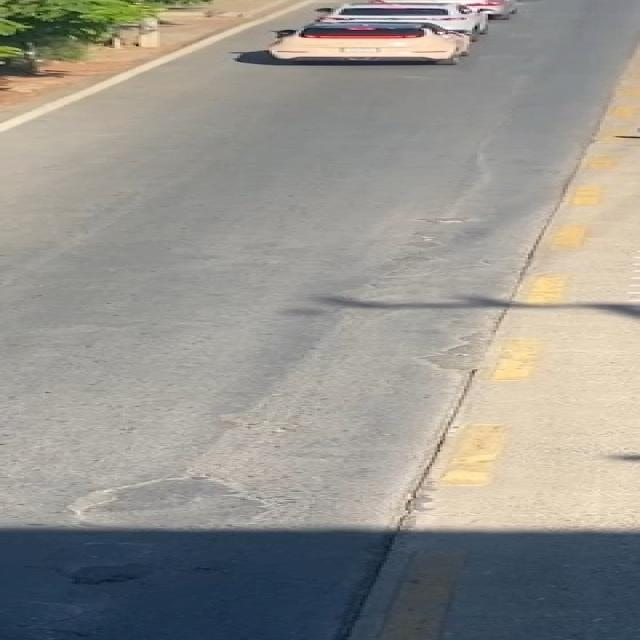car: (244, 17, 510, 67)
